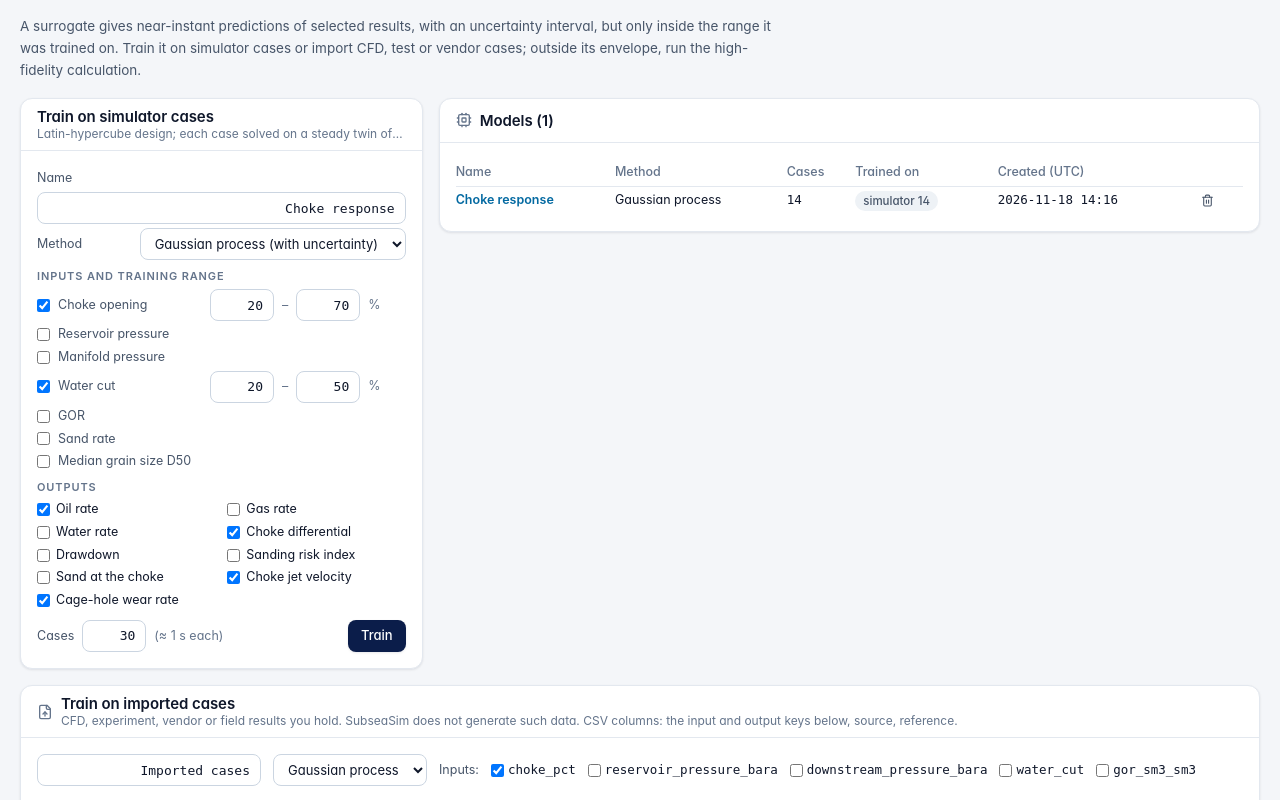
Scenario: Surrogate models page › shows the model card with its status, cross-validation and envelope, and predicts with an interval
Click the button "Choke response" at {"x": 505, "y": 201}, box [456,191,554,210]
(page scrolled)
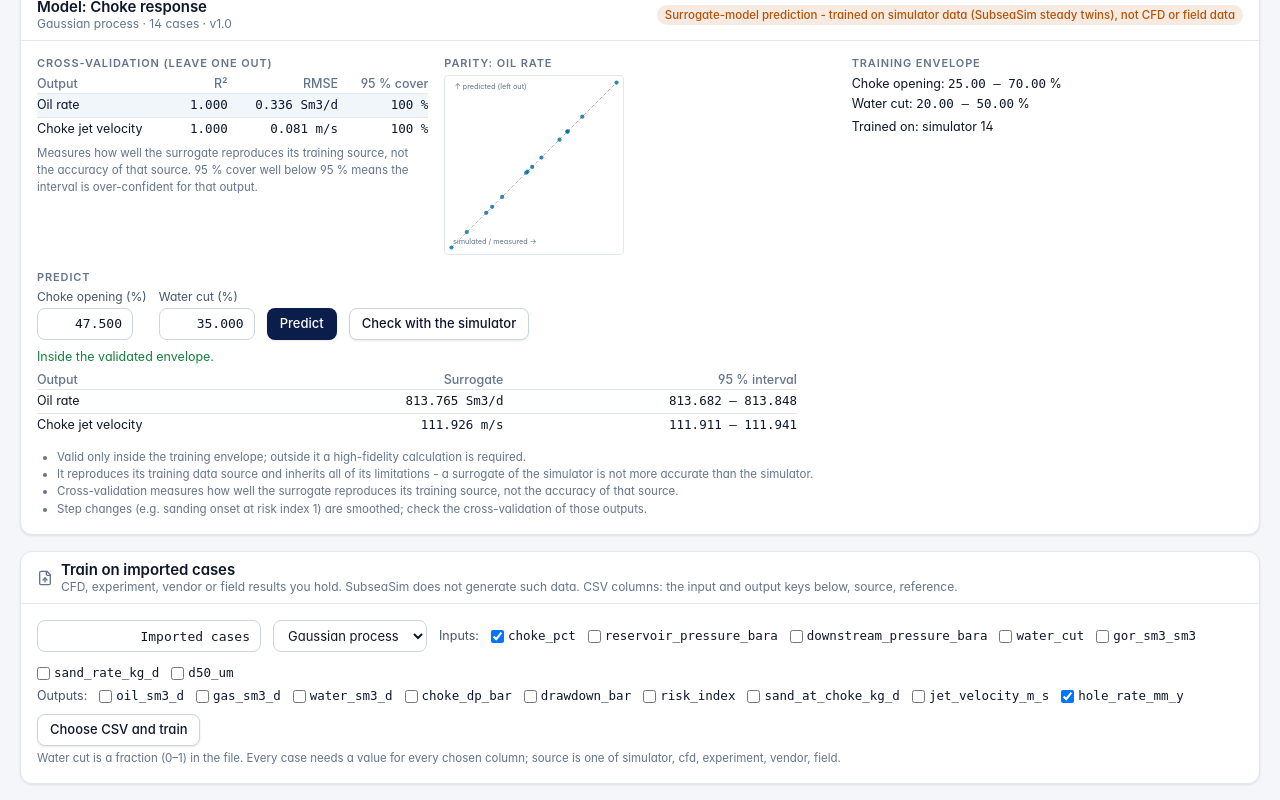
Check: the text with test id "surrogate-status" shows "trained on simulator data (SubseaSim steady twins), not CFD or field data", box [665,8,1235,22]
Check: the picture named "Leave-one-out parity plot" is shown, box [444,75,624,255]
Check: the text with test id "surrogate-envelope" shows "Inside the validated envelope", box [37,349,214,364]
